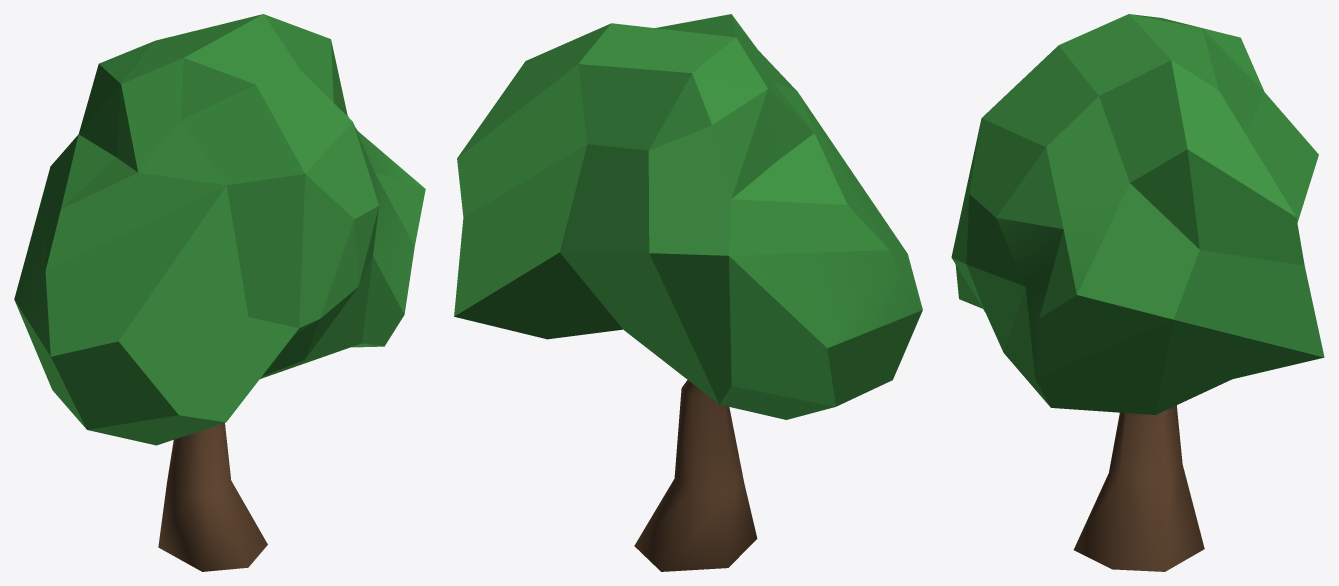
The model's file is Tree_D.fbx.
3 renders of one model, left to right at view 1: azimuth 30°, elevation 25°; view 2: azimuth 150°, elevation 25°; view 3: azimuth 270°, elevation 25°, orthographic. The views are drawn at different scales.
Visible parts, largest first — view 1: Tree_D; view 2: Tree_D; view 3: Tree_D.
Part boxes in pixels (<box>): Tree_D: <box>14,14,425,571</box>; Tree_D: <box>454,14,922,571</box>; Tree_D: <box>951,14,1324,571</box>.
Size of the model in its own units: 273 by 346 by 224.
